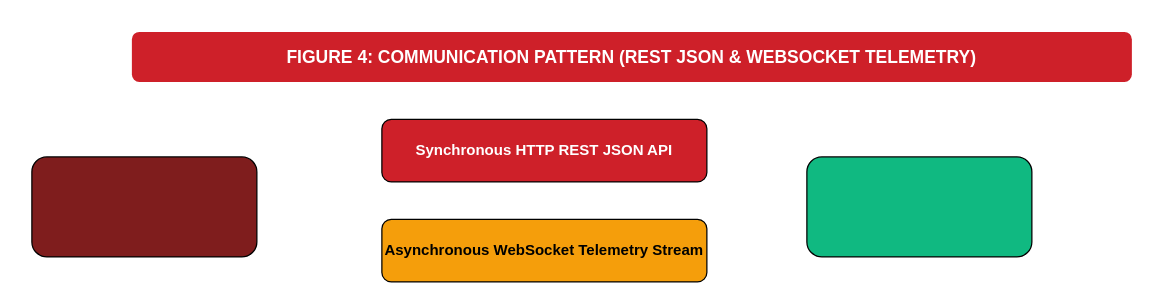
Some shapes in this 1153 by 304 pixel diagram are drawn without their labels. Here are the shapes that lost their labels. From the top down, the centre of each, then its label:
At point (144, 206): "Client Web Browser".
At point (919, 206): "Hirna Core Services".
